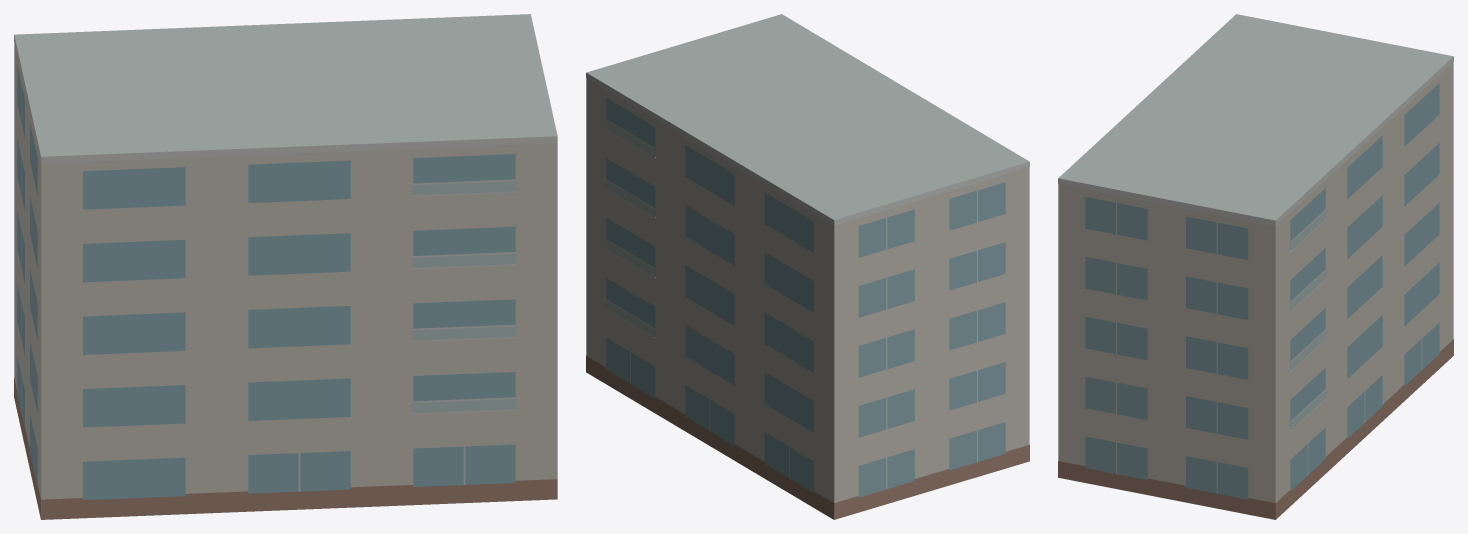
The model's file is survey-upis-32634261.glb.
3 renders of one model, left to right at view 1: azimuth 30°, elevation 25°; view 2: azimuth 150°, elevation 25°; view 3: azimuth 270°, elevation 25°, orthographic. The views are drawn at different scales.
Visible parts, largest first — view 1: survey-upis-32634261.tmp; view 2: survey-upis-32634261.tmp; view 3: survey-upis-32634261.tmp.
Part boxes in pixels (left/top/right/bottom): survey-upis-32634261.tmp: left=14, top=14, right=557, bottom=519; survey-upis-32634261.tmp: left=586, top=14, right=1029, bottom=519; survey-upis-32634261.tmp: left=1058, top=14, right=1453, bottom=519.
Size of the model in its own units: 19.54 by 13.2 by 15.82.
